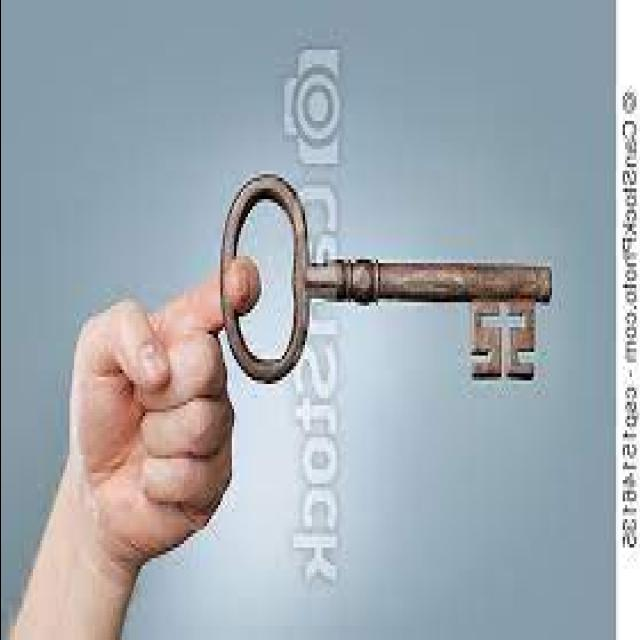key: (204, 156, 574, 510)
